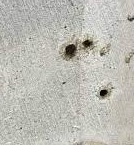Spalling: (59, 40, 80, 61), (96, 82, 114, 99), (80, 36, 96, 54), (99, 42, 112, 57), (125, 49, 134, 64), (127, 12, 134, 22)
